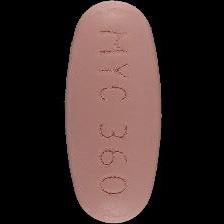68084-918: (0, 0, 224, 224)
